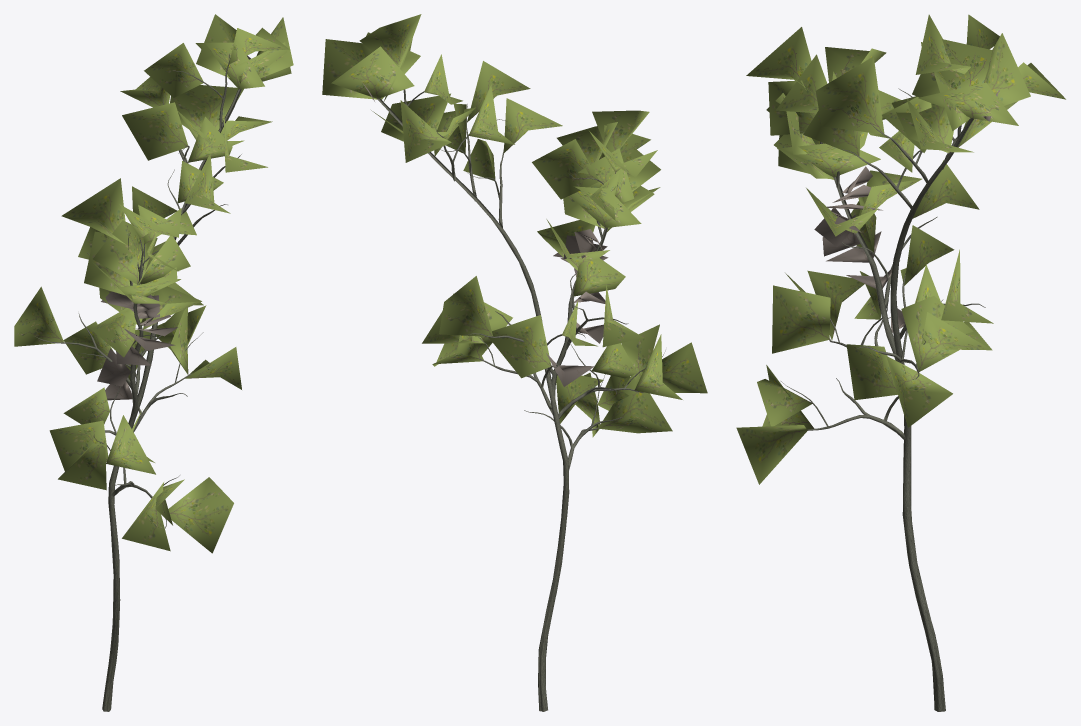
The model's file is sm_TreeSmall_01_04.fbx.
The picture shows the model from 3 angles, left to right: view 1: azimuth 30°, elevation 25°; view 2: azimuth 150°, elevation 25°; view 3: azimuth 270°, elevation 25°; orthographic projection. The views are drawn at different scales.
Parts seen in each view (by area): view 1: sm_TreeSmall_01_04_LOD0; view 2: sm_TreeSmall_01_04_LOD0; view 3: sm_TreeSmall_01_04_LOD0.
Boxes of the visible parts, bbox=[...] form: sm_TreeSmall_01_04_LOD0: bbox=[14, 14, 293, 711]; sm_TreeSmall_01_04_LOD0: bbox=[322, 14, 707, 711]; sm_TreeSmall_01_04_LOD0: bbox=[736, 14, 1065, 711].
Size of the model in its own units: 466 by 376 by 966.
